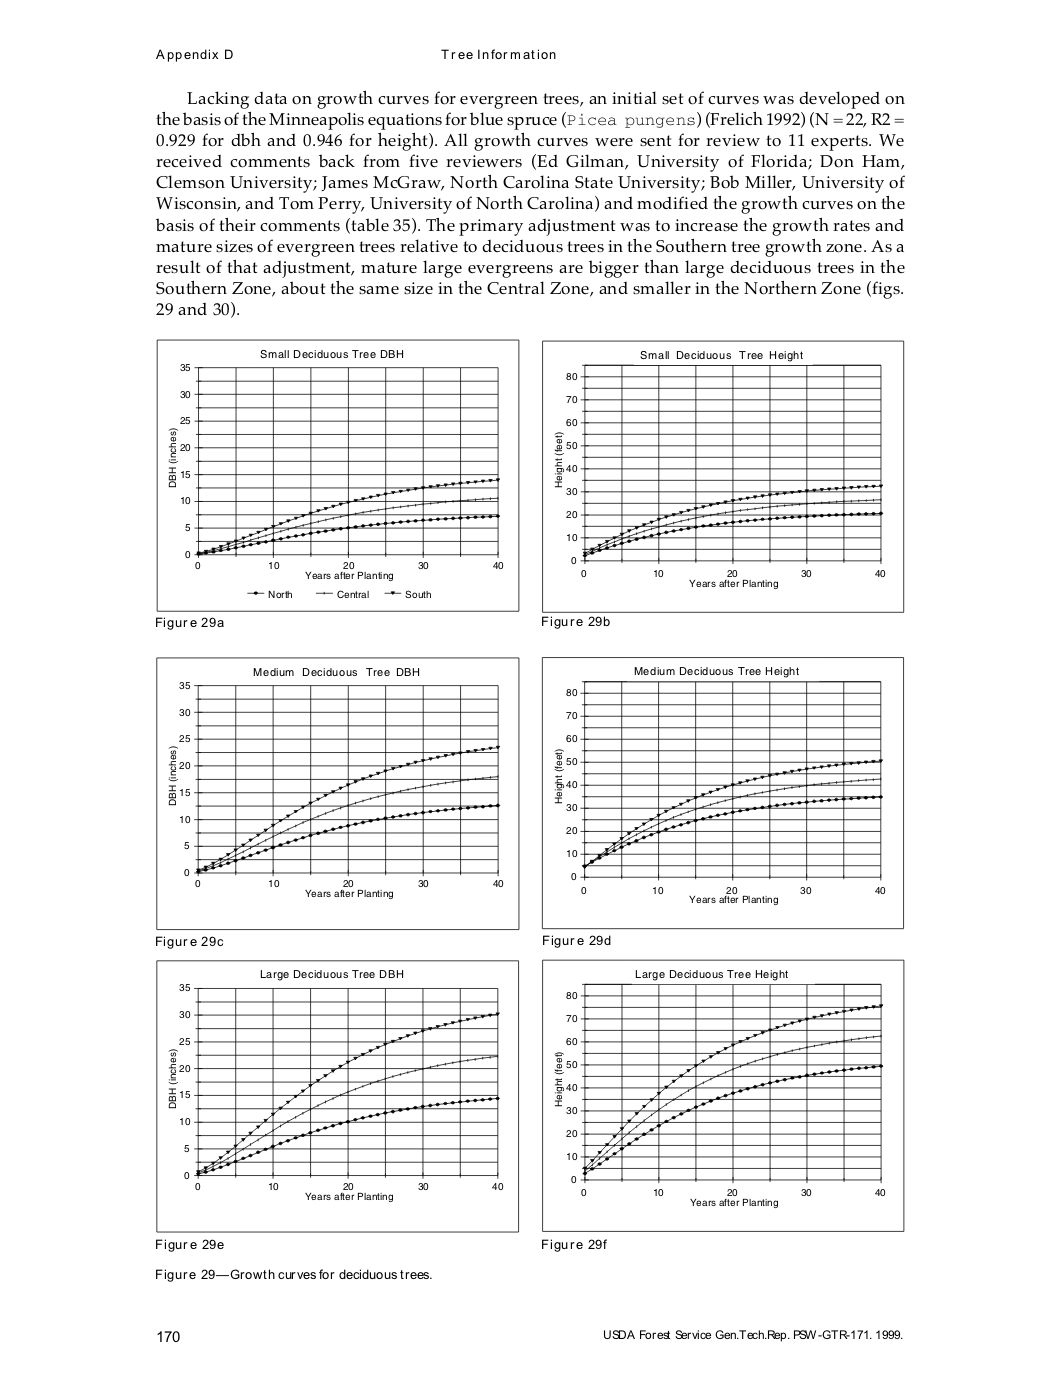figure: (156, 655, 519, 931), (156, 338, 519, 612), (542, 339, 904, 613), (541, 655, 903, 929), (156, 960, 519, 1233), (542, 958, 904, 1231)
